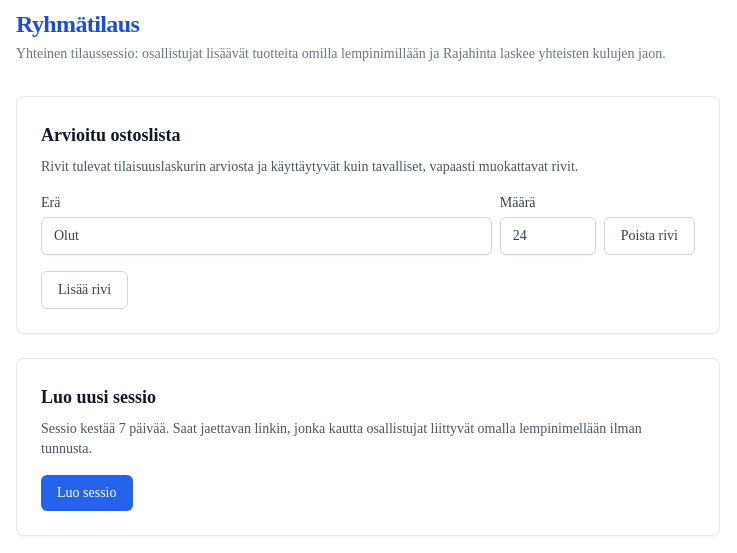
Test: CreateGroupOrderView — estimate prefill intake (3.1) › creates the session exactly as without a prefill (nothing transmitted)
Check: the element with test id "group-order-prefill-rows" is shown, box x1=16 y1=96 x2=720 y2=334
Click the button with test id "group-order-create-button" at (87,493), box x1=41 y1=475 x2=132 y2=511
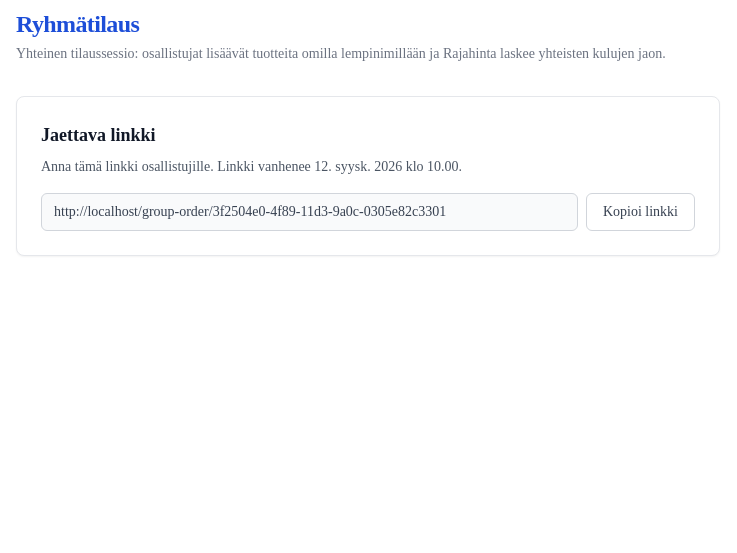
Check: the element with test id "group-order-share-panel" is shown, box x1=16 y1=96 x2=720 y2=256
